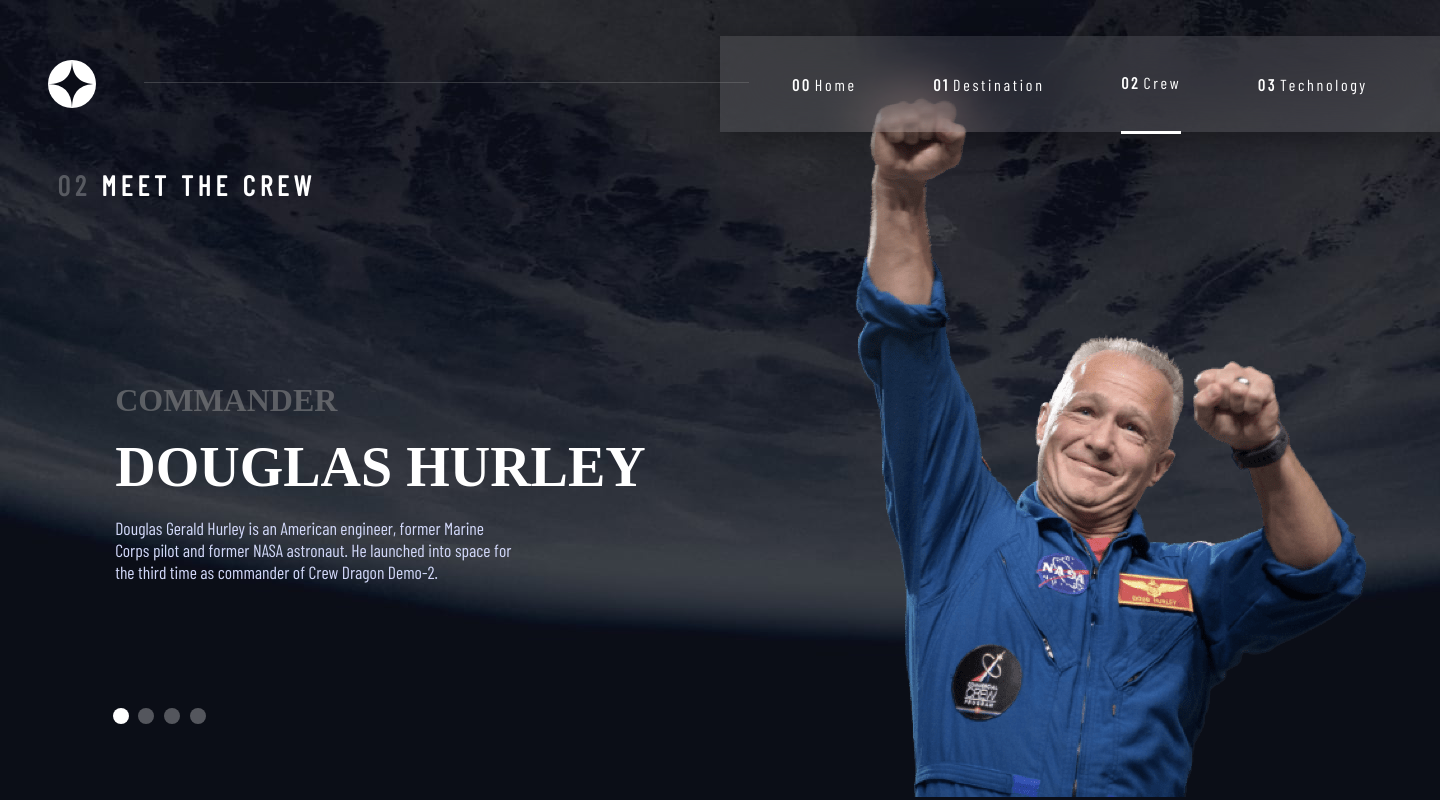
Scenario: Test crew navigation › Should show Anousheh Ansari
Click the 4th element with class "dot". click: click(198, 716)
box: [190,708,206,724]
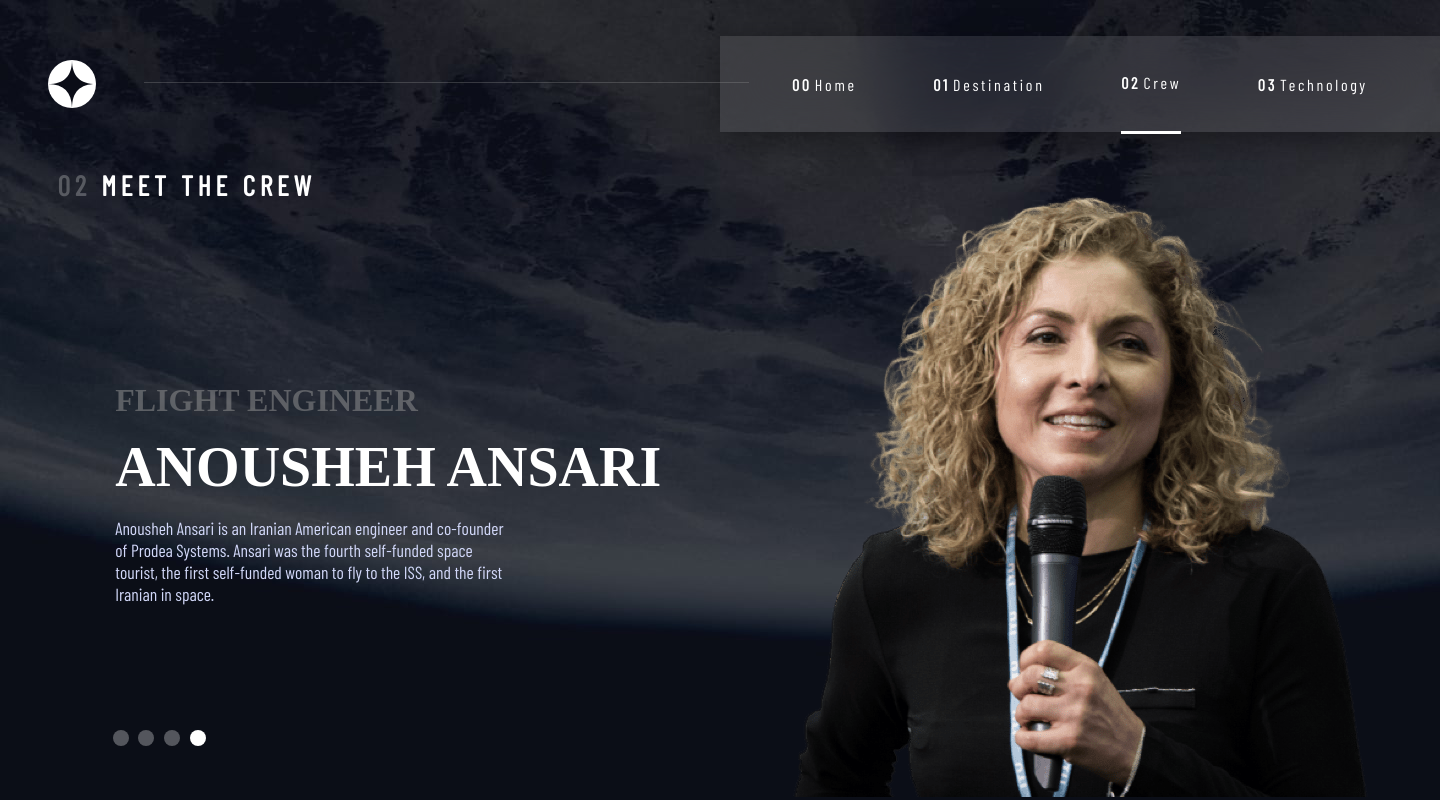
Now the heading "Anousheh Ansari" is shown, box [115,436,661,498]
